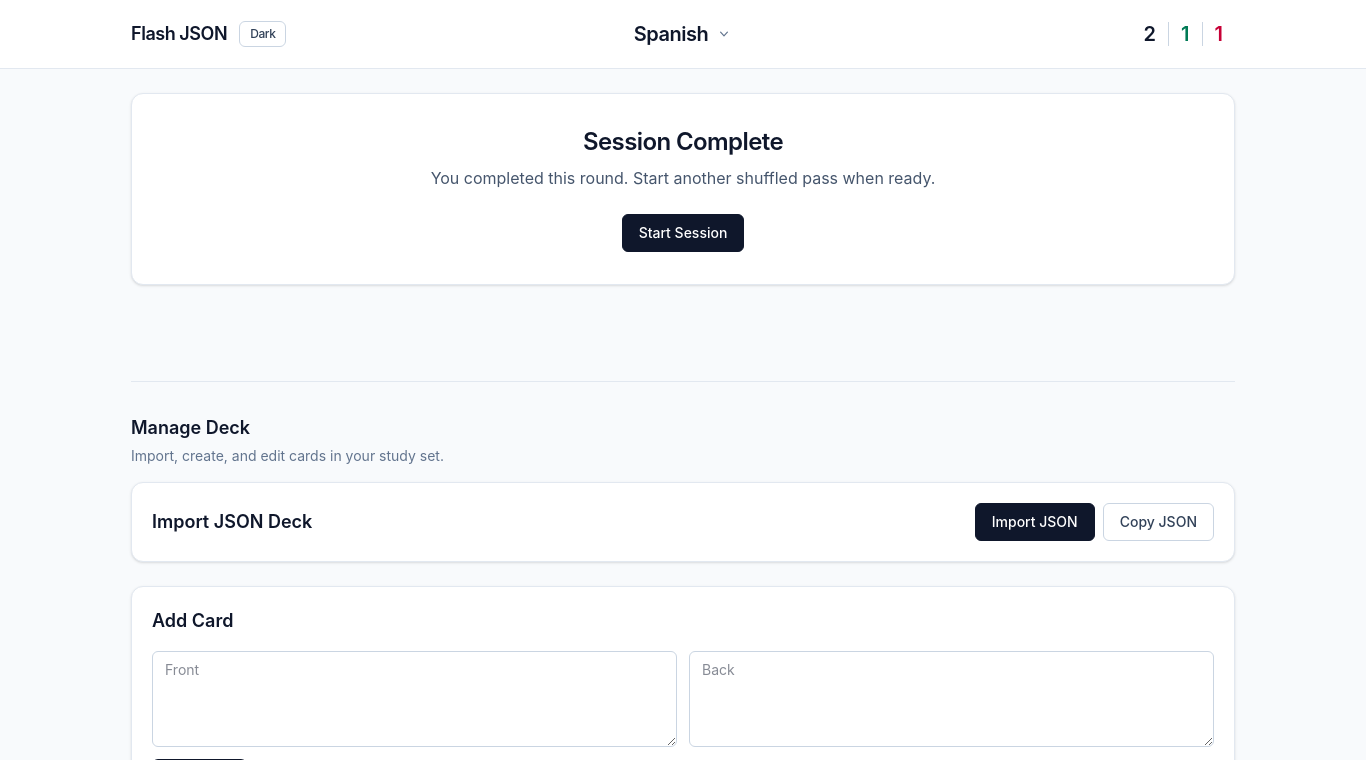
Test: Import flow with target set › defaults the target to the active set
The image size is (1366, 760).
Click the button "Import JSON" at (1035, 522), box [975,503,1095,541]
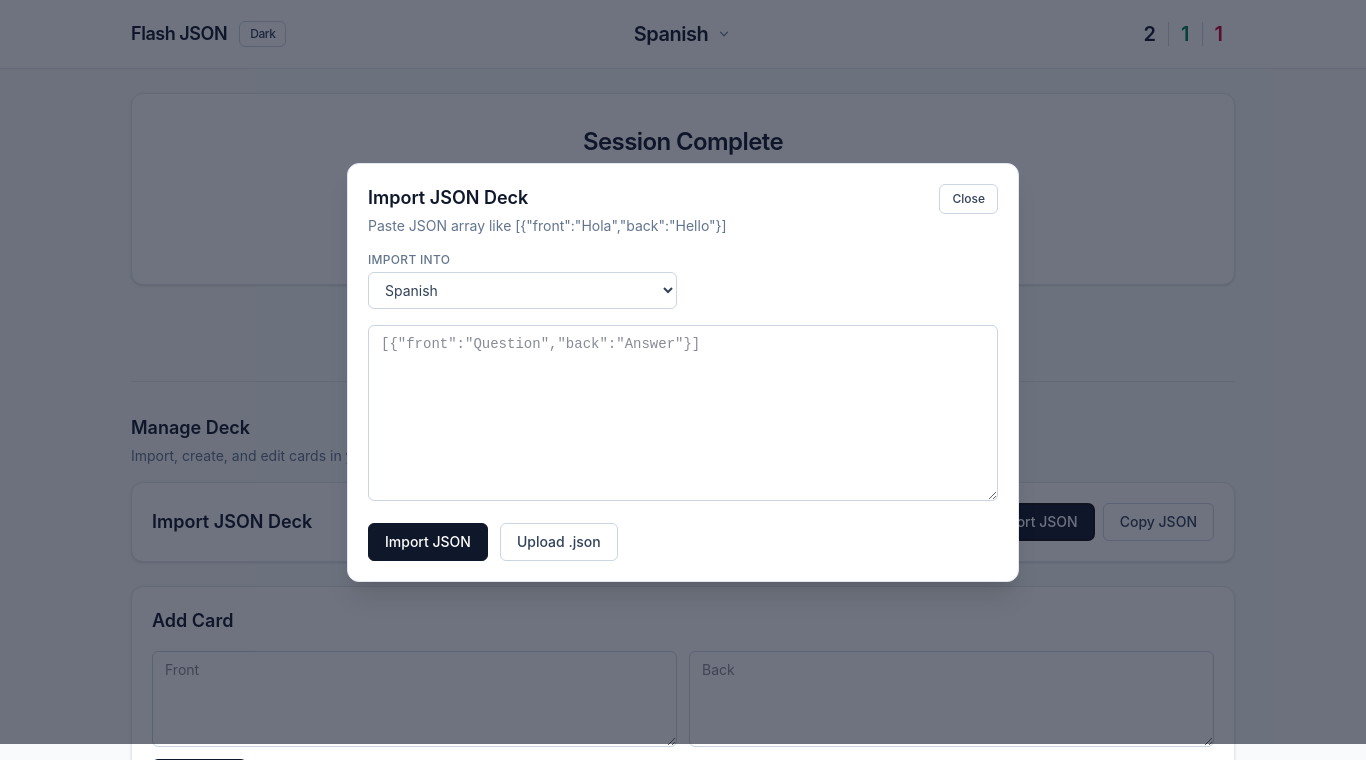
Check: the dropdown labelled "Import into" shows "Spanish", box [368,272,677,308]
